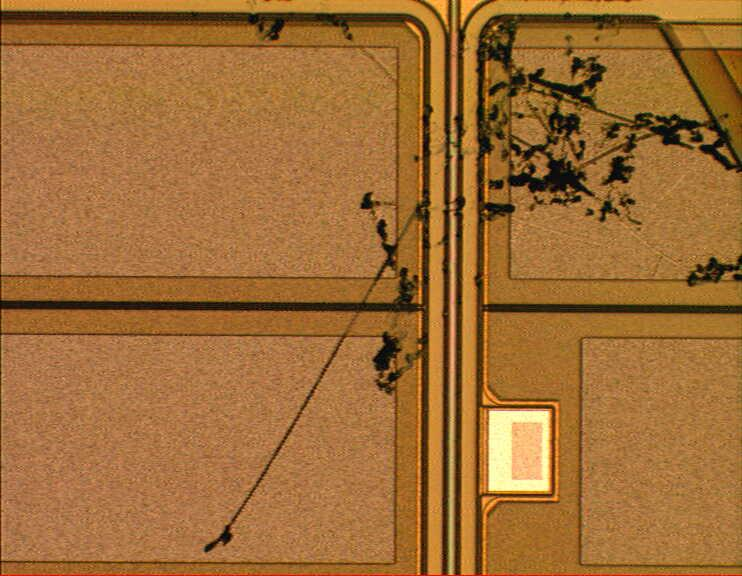SCRATCH: (197, 1, 742, 559)
